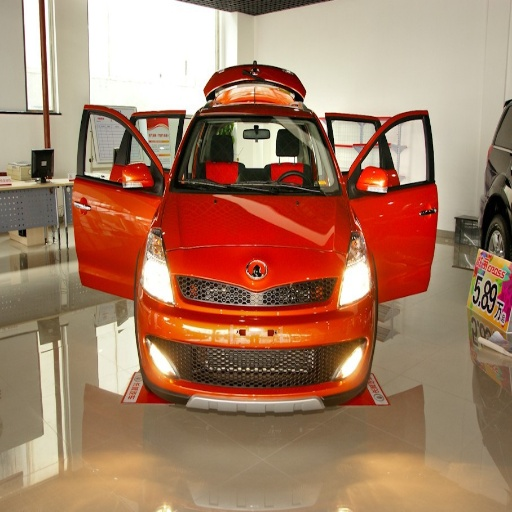front_bumper: (144, 276, 373, 411)
front_glass: (176, 108, 339, 194)
front_left_light: (339, 241, 373, 304)
front_right_door: (93, 108, 159, 231)
front_right_light: (141, 231, 176, 300)
hood: (171, 192, 347, 289)
